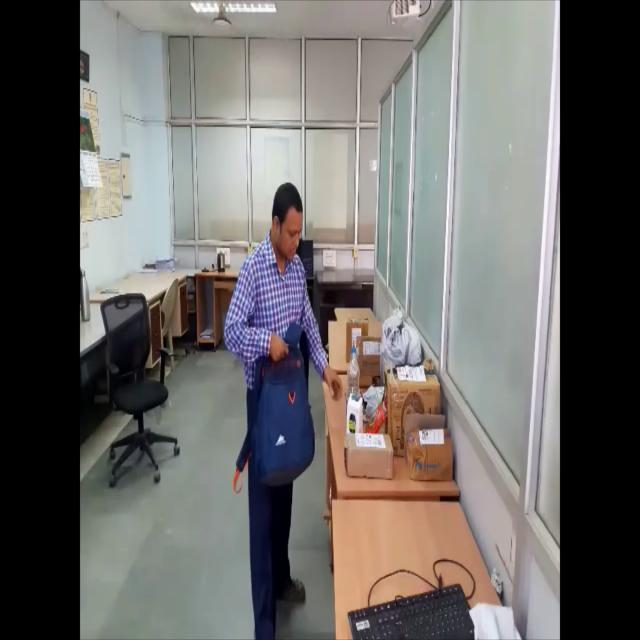shoplifting: (220, 160, 344, 638)
